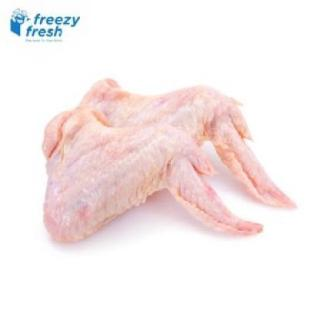Ayam: (41, 79, 299, 242), (44, 111, 263, 242)
